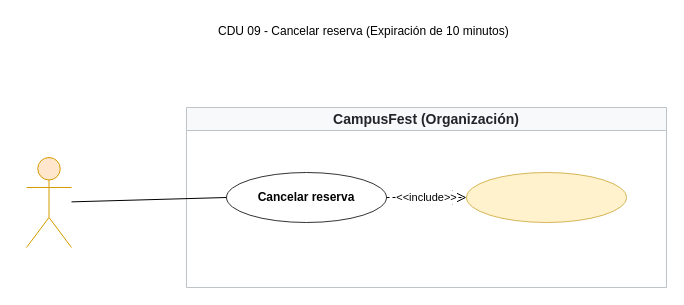
Image size: 684x305. Some labels were removed from this diagram. Here are the shapes that lost their labels. From the top down, the centre of each, then its label:
[49,202]: 10 mins de una reserva
[546,197]: Consultar eventos
